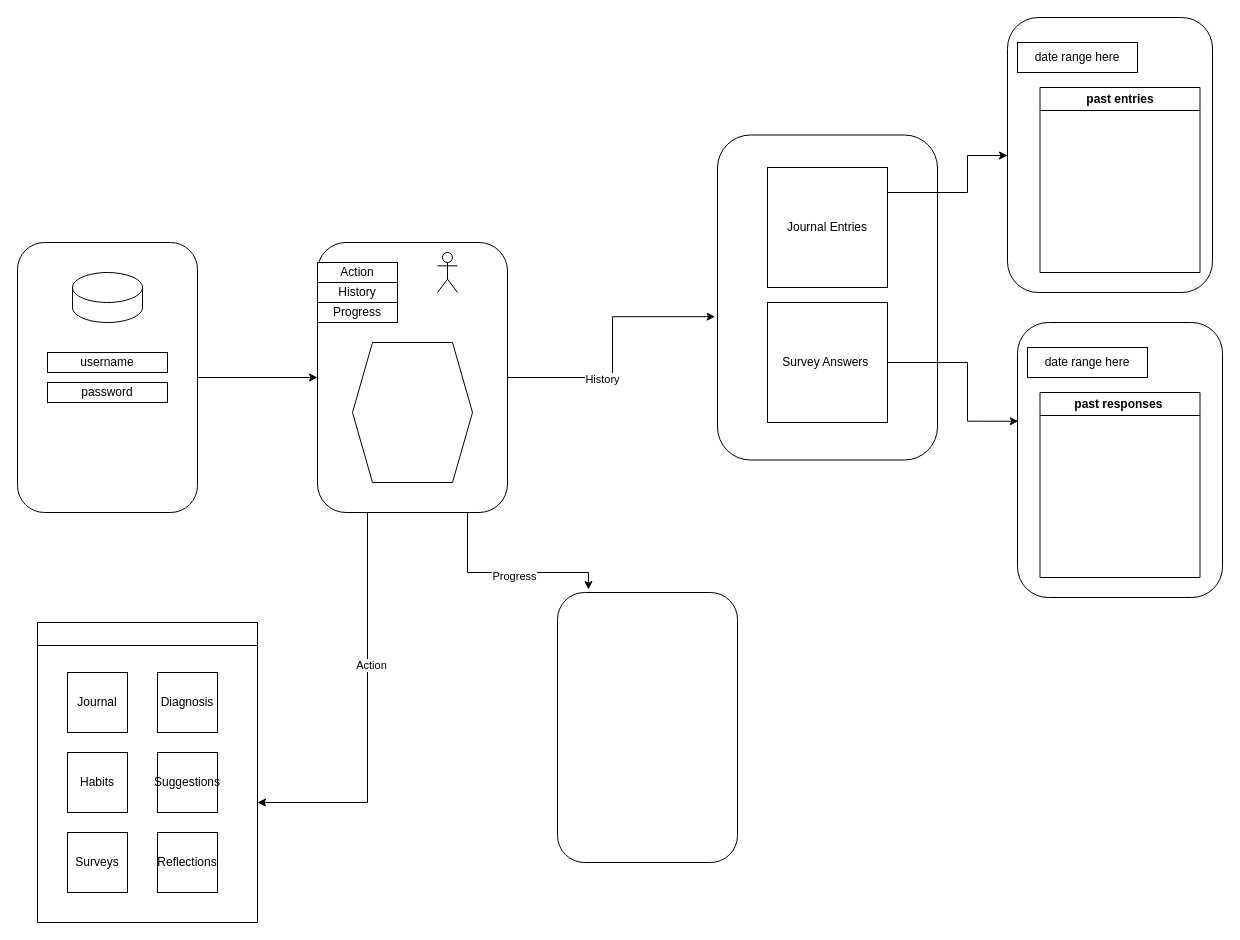
Some shapes in this 1240 by 940 pixel diagram are drawn without their labels. Each missing label, with the box of its shape:
Actions: (36, 622, 258, 922)
HaMPR: (72, 272, 142, 322)
home page portal: (352, 342, 472, 482)
user profile: (436, 252, 458, 292)
